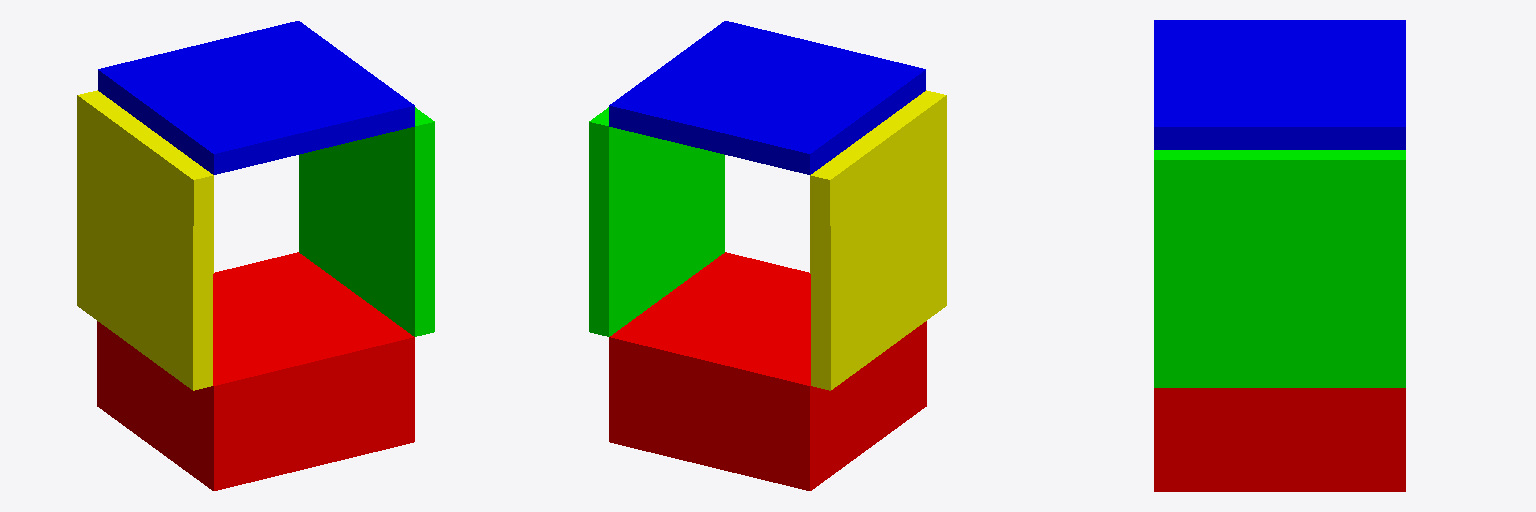
robot.urdf — incorrect_xacro:
<?xml version="1.0" ?>
<!-- =================================================================================== -->
<!-- |    This document was autogenerated by xacro from ./../xacro/02_open_chain_and_dummy_link.xacro | -->
<!-- |    EDITING THIS FILE BY HAND IS NOT RECOMMENDED                                 | -->
<!-- =================================================================================== -->
<robot name="incorrect_xacro" xmlns:xacro="http://www.ros.org/wiki/xacro">
  <material name="red">
    <color rgba="1.0 0.0 0.0 1.0"/>
  </material>
  <material name="green">
    <color rgba="0.0 1.0 0.0 1.0"/>
  </material>
  <material name="blue">
    <color rgba="0.0 0.0 1.0 1.0"/>
  </material>
  <material name="yellow">
    <color rgba="1.0 1.0 0.0 1.0"/>
  </material>
  <link name="right_pad1">
    <collision name="right_pad1_collision">
      <origin rpy="0 0 0" xyz="0.5 0 0.25"/>
      <geometry>
        <box size="1.0 1.0 0.5"/>
      </geometry>
    </collision>
    <visual name="right_pad1_visual">
      <origin rpy="0 0 0" xyz="0.5 0 0.25"/>
      <geometry>
        <box size="1.0 1.0 0.5"/>
      </geometry>
      <material name="red"/>
    </visual>
    <inertial>
      <mass value="0.5"/>
      <origin rpy="0 0 0" xyz="0.5 0 0.25"/>
      <inertia ixx="0.0001" ixy="0.0000" ixz="0.0000" iyy="0.0001" iyz="0.0000" izz="0.0001"/>
    </inertial>
  </link>
  <!-- Joints are respect the PARENT in XACRO/URDF -->
  <!-- Joints are respect the CHILD in SDF -->
  <joint name="right_pad1_joint" type="revolute">
    <parent link="right_pad1"/>
    <child link="right_pad2"/>
    <origin rpy="0 -1.57 0" xyz="1.0 0 0.5"/>
    <axis xyz="0 1 0"/>
    <limit effort="1000.0" lower="-3.14" upper="3.14" velocity="1000.0"/>
    <dynamics damping="0" friction="0"/>
  </joint>
  <link name="right_pad2">
    <collision name="right_pad2_collision">
      <origin rpy="0 0 0" xyz="0.5 0 -0.05"/>
      <geometry>
        <box size="1.0 1.0 0.1"/>
      </geometry>
    </collision>
    <visual name="right_pad2_visual">
      <origin rpy="0 0 0" xyz="0.5 0 -0.05"/>
      <geometry>
        <box size="1.0 1.0 0.1"/>
      </geometry>
      <material name="green"/>
    </visual>
    <inertial>
      <mass value="0.5"/>
      <origin rpy="0 0 0" xyz="0.5 0 -0.05"/>
      <inertia ixx="0.0001" ixy="0.0000" ixz="0.0000" iyy="0.0001" iyz="0.0000" izz="0.0001"/>
    </inertial>
  </link>
  <joint name="right_pad2_joint" type="revolute">
    <parent link="right_pad2"/>
    <child link="right_pad3"/>
    <origin rpy="0 -1.57 0" xyz="1.0 0 0"/>
    <axis xyz="0 1 0"/>
    <limit effort="1000.0" lower="-3.14" upper="3.14" velocity="1000.0"/>
    <dynamics damping="0" friction="0"/>
  </joint>
  <link name="right_pad3">
    <collision name="right_pad3_collision">
      <origin rpy="0 0 0" xyz="0.5 0 -0.05"/>
      <geometry>
        <box size="1.0 1.0 0.1"/>
      </geometry>
    </collision>
    <visual name="right_pad3_visual">
      <origin rpy="0 0 0" xyz="0.5 0 -0.05"/>
      <geometry>
        <box size="1.0 1.0 0.1"/>
      </geometry>
      <material name="blue"/>
    </visual>
    <inertial>
      <mass value="0.5"/>
      <origin rpy="0 0 0" xyz="0.5 0 -0.05"/>
      <inertia ixx="0.0001" ixy="0.0000" ixz="0.0000" iyy="0.0001" iyz="0.0000" izz="0.0001"/>
    </inertial>
  </link>
  <joint name="right_pad3_joint" type="revolute">
    <parent link="right_pad3"/>
    <child link="right_pad4"/>
    <origin rpy="0 -1.57 0" xyz="1.0 0 0"/>
    <axis xyz="0 1 0"/>
    <limit effort="1000.0" lower="-3.14" upper="3.14" velocity="1000.0"/>
    <dynamics damping="0" friction="0"/>
  </joint>
  <link name="right_pad4">
    <collision name="right_pad4_collision">
      <origin rpy="0 0 0" xyz="0.5 0 -0.05"/>
      <geometry>
        <box size="1.0 1.0 0.1"/>
      </geometry>
    </collision>
    <visual name="right_pad4_visual">
      <origin rpy="0 0 0" xyz="0.5 0 -0.05"/>
      <geometry>
        <box size="1.0 1.0 0.1"/>
      </geometry>
      <material name="yellow"/>
    </visual>
    <inertial>
      <mass value="0.5"/>
      <origin rpy="0 0 0" xyz="0.5 0 -0.05"/>
      <inertia ixx="0.0001" ixy="0.0000" ixz="0.0000" iyy="0.0001" iyz="0.0000" izz="0.0001"/>
    </inertial>
  </link>
  <!-- This joint closes the loop. -->
  <joint name="connection_joint" type="continuous">
    <parent link="right_pad4"/>
    <child link="dummy0_connection_right_pad1"/>
    <origin rpy="0 -1.57 0" xyz="1.0 0 0"/>
    <axis xyz="0 1 0"/>
  </joint>
  <!-- Dummy of he first link. -->
  <!-- Pleanse input relative joint pose from CHILD link in inertial origin -->
  <link name="dummy0_connection_right_pad1">
    <inertial>
      <mass value="0.0005"/>
      <origin rpy="0 0 0" xyz="0 0 0"/>
      <inertia ixx="0.00000001" ixy="0.00000000" ixz="0.00000000" iyy="0.00000001" iyz="0.00000000" izz="0.00000001"/>
    </inertial>
  </link>
  <joint name="origin_joint" type="continuous">
    <parent link="dummy0_connection_right_pad1"/>
    <child link="dummy0_origin_right_pad1"/>
    <origin rpy="0 0 0" xyz="0 0 -0.5"/>
    <axis xyz="0 1 0"/>
  </joint>
  <link name="dummy0_origin_right_pad1">
    <inertial>
      <mass value="0.0005"/>
      <origin rpy="0 0 0" xyz="0 0 0"/>
      <inertia ixx="0.00000001" ixy="0.00000000" ixz="0.00000000" iyy="0.00000001" iyz="0.00000000" izz="0.00000001"/>
    </inertial>
  </link>
</robot>

--- Render facts (derived) ---
Views: 3 orthographic renders of the robot side by side, from view 1: azimuth 30°, elevation 25°; view 2: azimuth 150°, elevation 25°; view 3: azimuth 270°, elevation 25°.
Robot: incorrect_xacro — 6 links, 5 joints (3 revolute, 2 continuous); root link right_pad1; default pose: every joint at zero.
Visible links, largest first — view 1: right_pad1, right_pad4, right_pad3, right_pad2; view 2: right_pad1, right_pad4, right_pad3, right_pad2; view 3: right_pad2, right_pad3, right_pad1.
Boxes of the visible links, <box> form: right_pad1: <box>97,252,414,490</box>; right_pad4: <box>77,90,213,390</box>; right_pad3: <box>98,21,414,174</box>; right_pad2: <box>299,107,434,336</box>; right_pad1: <box>609,252,926,490</box>; right_pad4: <box>810,90,946,390</box>; right_pad3: <box>609,21,925,174</box>; right_pad2: <box>589,107,724,336</box>; right_pad2: <box>1154,150,1405,387</box>; right_pad3: <box>1154,20,1405,149</box>; right_pad1: <box>1154,388,1405,491</box>.
Size in the robot's own frame: 1.2 by 1 by 1.6 metres.
Geometry: primitives only (box / cylinder / sphere), no mesh files.